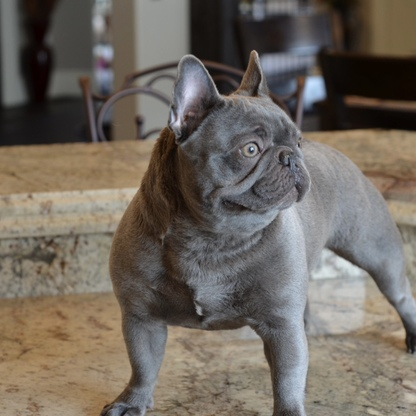bulldog: (100, 48, 416, 410)
